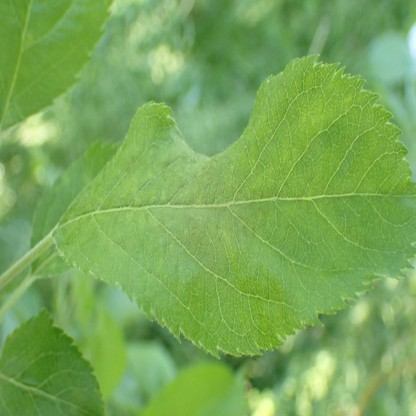scab: (130, 141, 272, 242)
